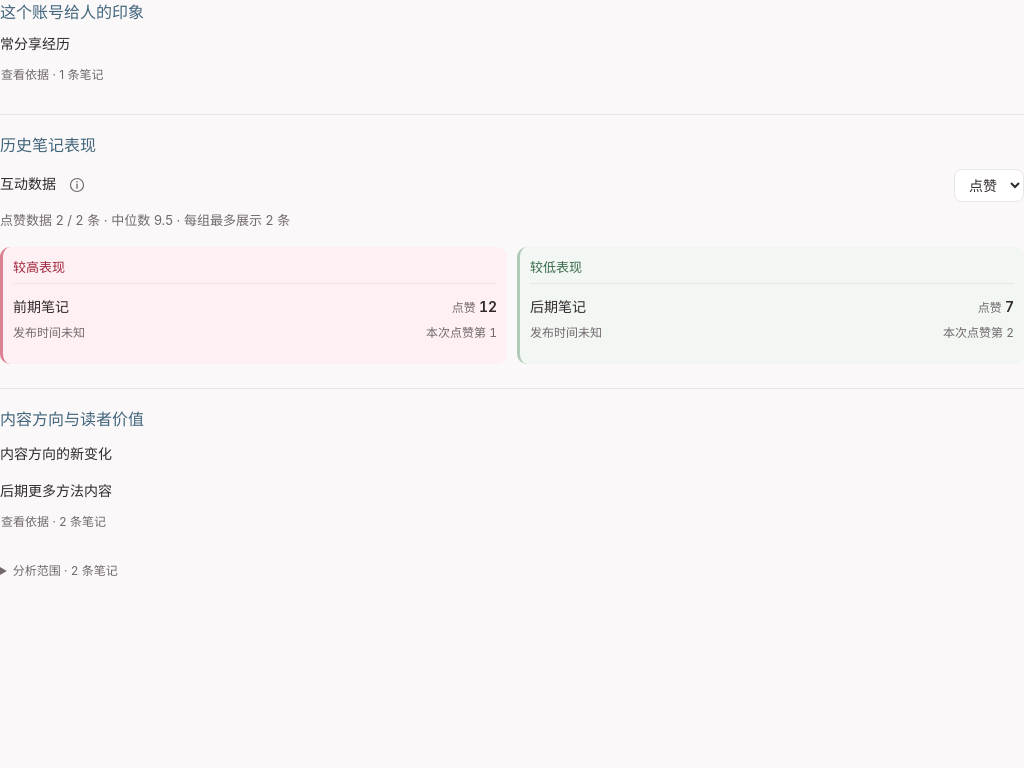
Test case: separates possible exceptions and dated content changes from performance claims
This screenshot has width=1024, height=768.
Expected: the text "后期更多方法内容" is shown, [0,482,112,499]
Click the button "查看依据 · 1 条笔记". click: [52, 75]
box: [0,60,104,90]
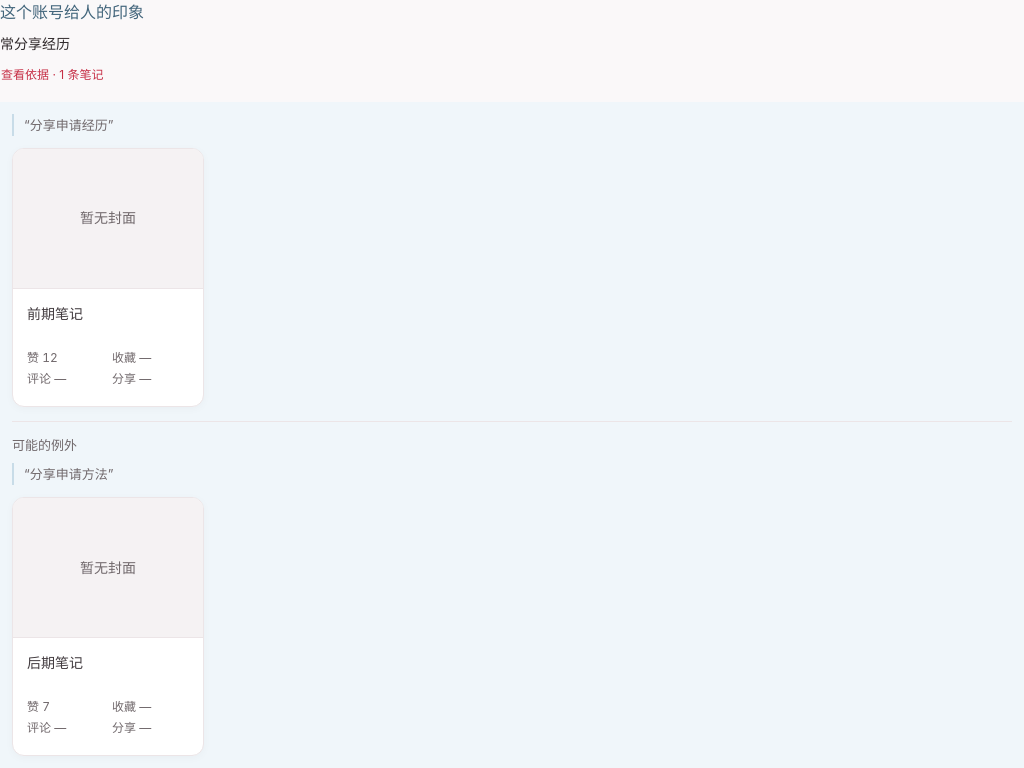
Result: the text "可能的例外" is shown at [12,437,77,453]
Result: the text "“分享申请方法”" is shown at [12,463,1012,485]
